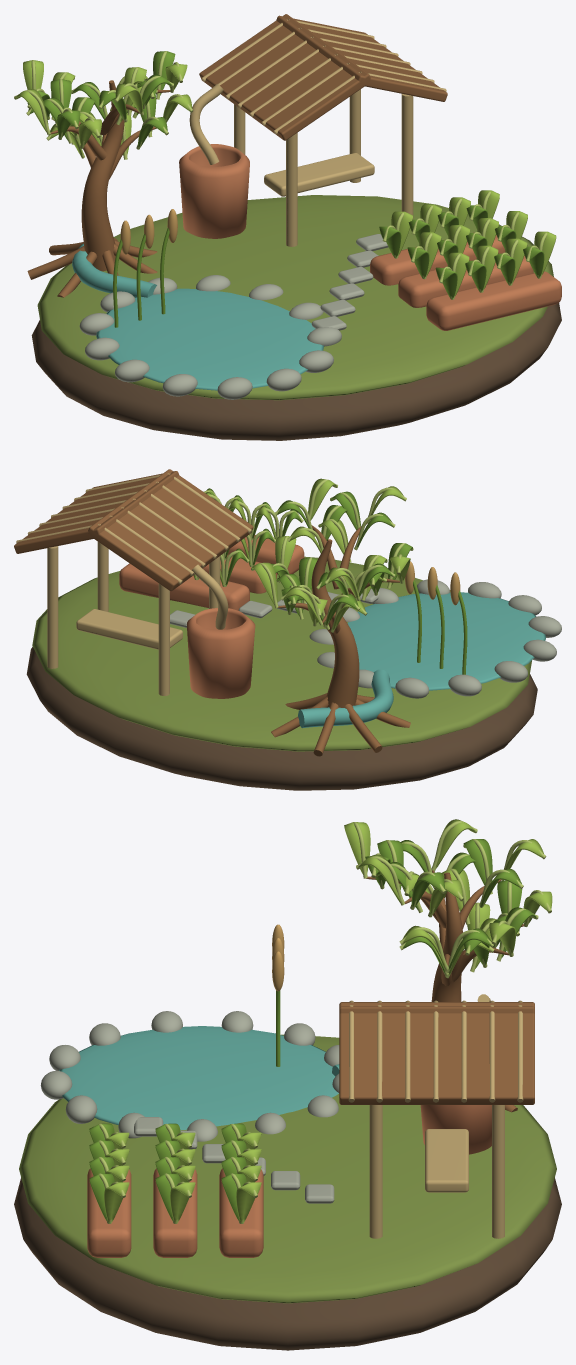
File: water-ab2982cf4e3d.glb
3 renders of one model, top to bottom at view 1: azimuth 30°, elevation 25°; view 2: azimuth 150°, elevation 25°; view 3: azimuth 270°, elevation 25°, orthographic. The views are drawn at different scales.
Parts seen in each view (by area): view 1: Sphere.001, Sphere, Sphere.002, Cube.009, Hand formed vessel, Cube.006, Cube.010, Stem / vein.044, Cube.011, Cube.007, Cube.008, Stem / vein.027 (+13 smaller); view 2: Sphere.001, Sphere, Sphere.002, Cube.009, Hand formed vessel, Cube.010, Stem / vein.044, Cube.008, Cube.011, Stem / vein, Stem / vein.028, Stem / vein.026 (+18 smaller); view 3: Sphere.001, Sphere, Sphere.002, Cube.010, Cube.011, Cube.006, Cube.007, Cube.008, Hand formed vessel, Stem / vein.027, Stem / vein.028, Stem / vein.044 (+5 smaller).
Part boxes in pixels (box(x1,y1,x2,y2)): Sphere.001: box(37, 195, 553, 400); Sphere: box(31, 303, 561, 440); Sphere.002: box(96, 288, 323, 390); Cube.009: box(199, 14, 370, 140); Hand formed vessel: box(179, 144, 249, 238); Cube.006: box(426, 271, 561, 330); Cube.010: box(276, 15, 447, 101); Stem / vein.044: box(81, 80, 124, 271); Cube.011: box(264, 153, 374, 196); Cube.007: box(398, 253, 533, 307); Cube.008: box(370, 232, 505, 285); Stem / vein.027: box(401, 94, 413, 218); Sphere.001: box(32, 556, 531, 751); Sphere: box(26, 647, 537, 790); Sphere.002: box(347, 592, 545, 690); Cube.009: box(88, 469, 253, 591); Hand formed vessel: box(187, 608, 255, 698); Cube.010: box(14, 471, 179, 553); Stem / vein.044: box(311, 539, 359, 707); Cube.008: box(119, 563, 249, 610); Cube.011: box(76, 609, 182, 649); Stem / vein: box(298, 669, 393, 728); Stem / vein.028: box(47, 546, 58, 668); Stem / vein.026: box(158, 583, 169, 695); Sphere.001: box(19, 1034, 556, 1303); Sphere: box(14, 1177, 561, 1350); Sphere.002: box(59, 1026, 338, 1130); Cube.010: box(339, 1002, 534, 1104); Cube.011: box(425, 1129, 468, 1192); Cube.006: box(87, 1168, 131, 1257); Cube.007: box(153, 1168, 197, 1257); Cube.008: box(219, 1168, 263, 1257); Hand formed vessel: box(420, 1105, 491, 1154); Stem / vein.027: box(369, 1105, 382, 1238); Stem / vein.028: box(492, 1105, 504, 1238); Stem / vein.044: box(431, 872, 463, 1001).
Size of the model in its own units: 2.64 by 1.61 by 2.24.
